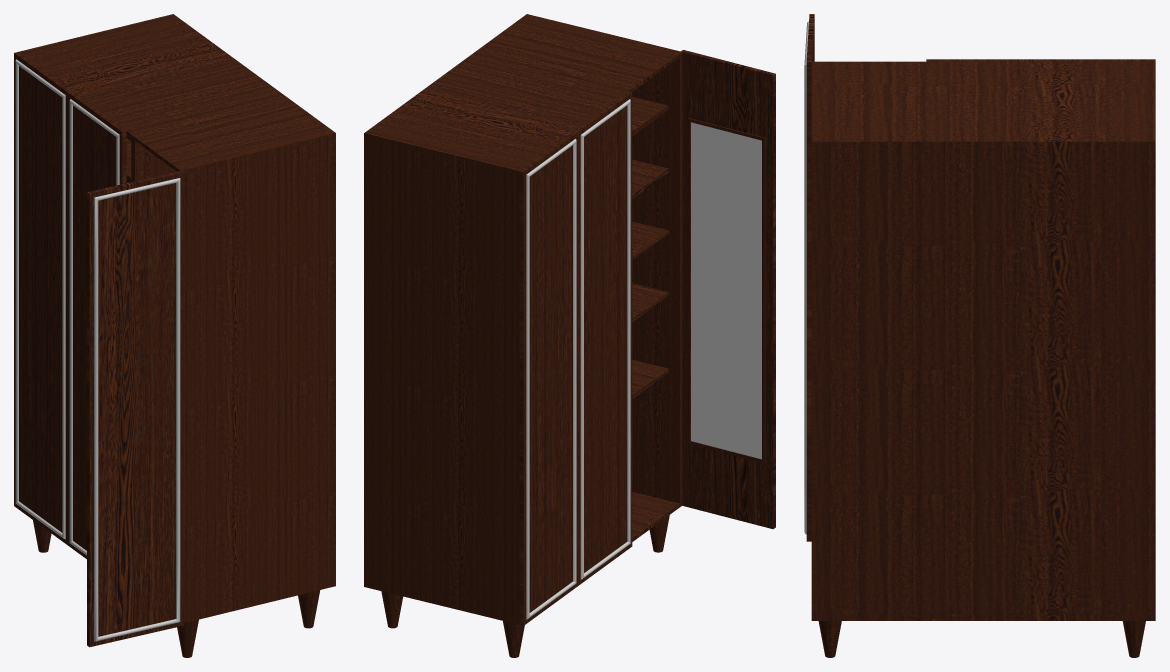
Rendered from dzerkalo.fbx.
3 renders of one model, left to right at view 1: azimuth 30°, elevation 25°; view 2: azimuth 150°, elevation 25°; view 3: azimuth 270°, elevation 25°, orthographic. The views are drawn at different scales.
Parts seen in each view (by area): view 1: Cube.043; view 2: Cube.043; view 3: Cube.043.
Boxes of the visible parts, box(x1,y1,x2,y2) form: Cube.043: box(14, 14, 335, 657); Cube.043: box(364, 14, 775, 657); Cube.043: box(804, 14, 1155, 657).
Bounding box in the file's own units: 114 × 219 × 133.
